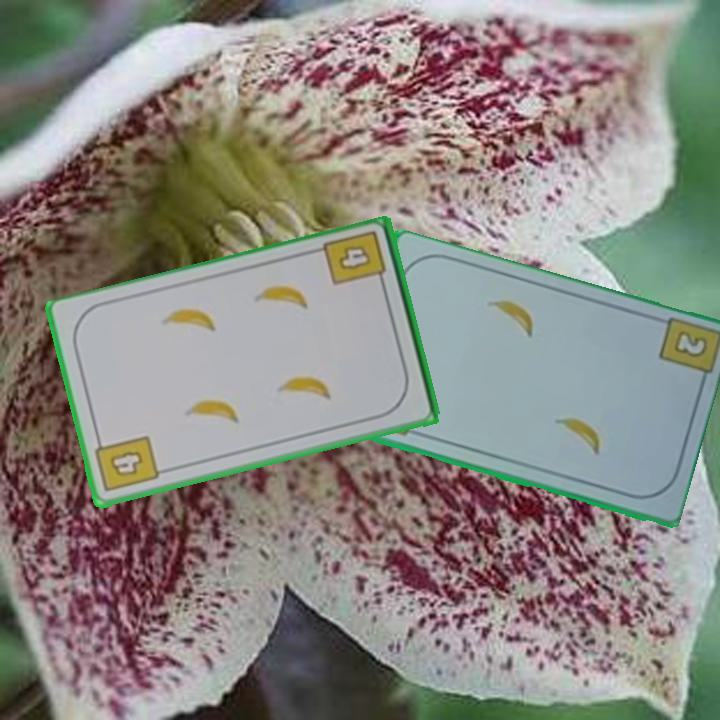2b: (669, 327, 710, 361)
4b: (320, 227, 390, 292), (92, 432, 162, 495)
